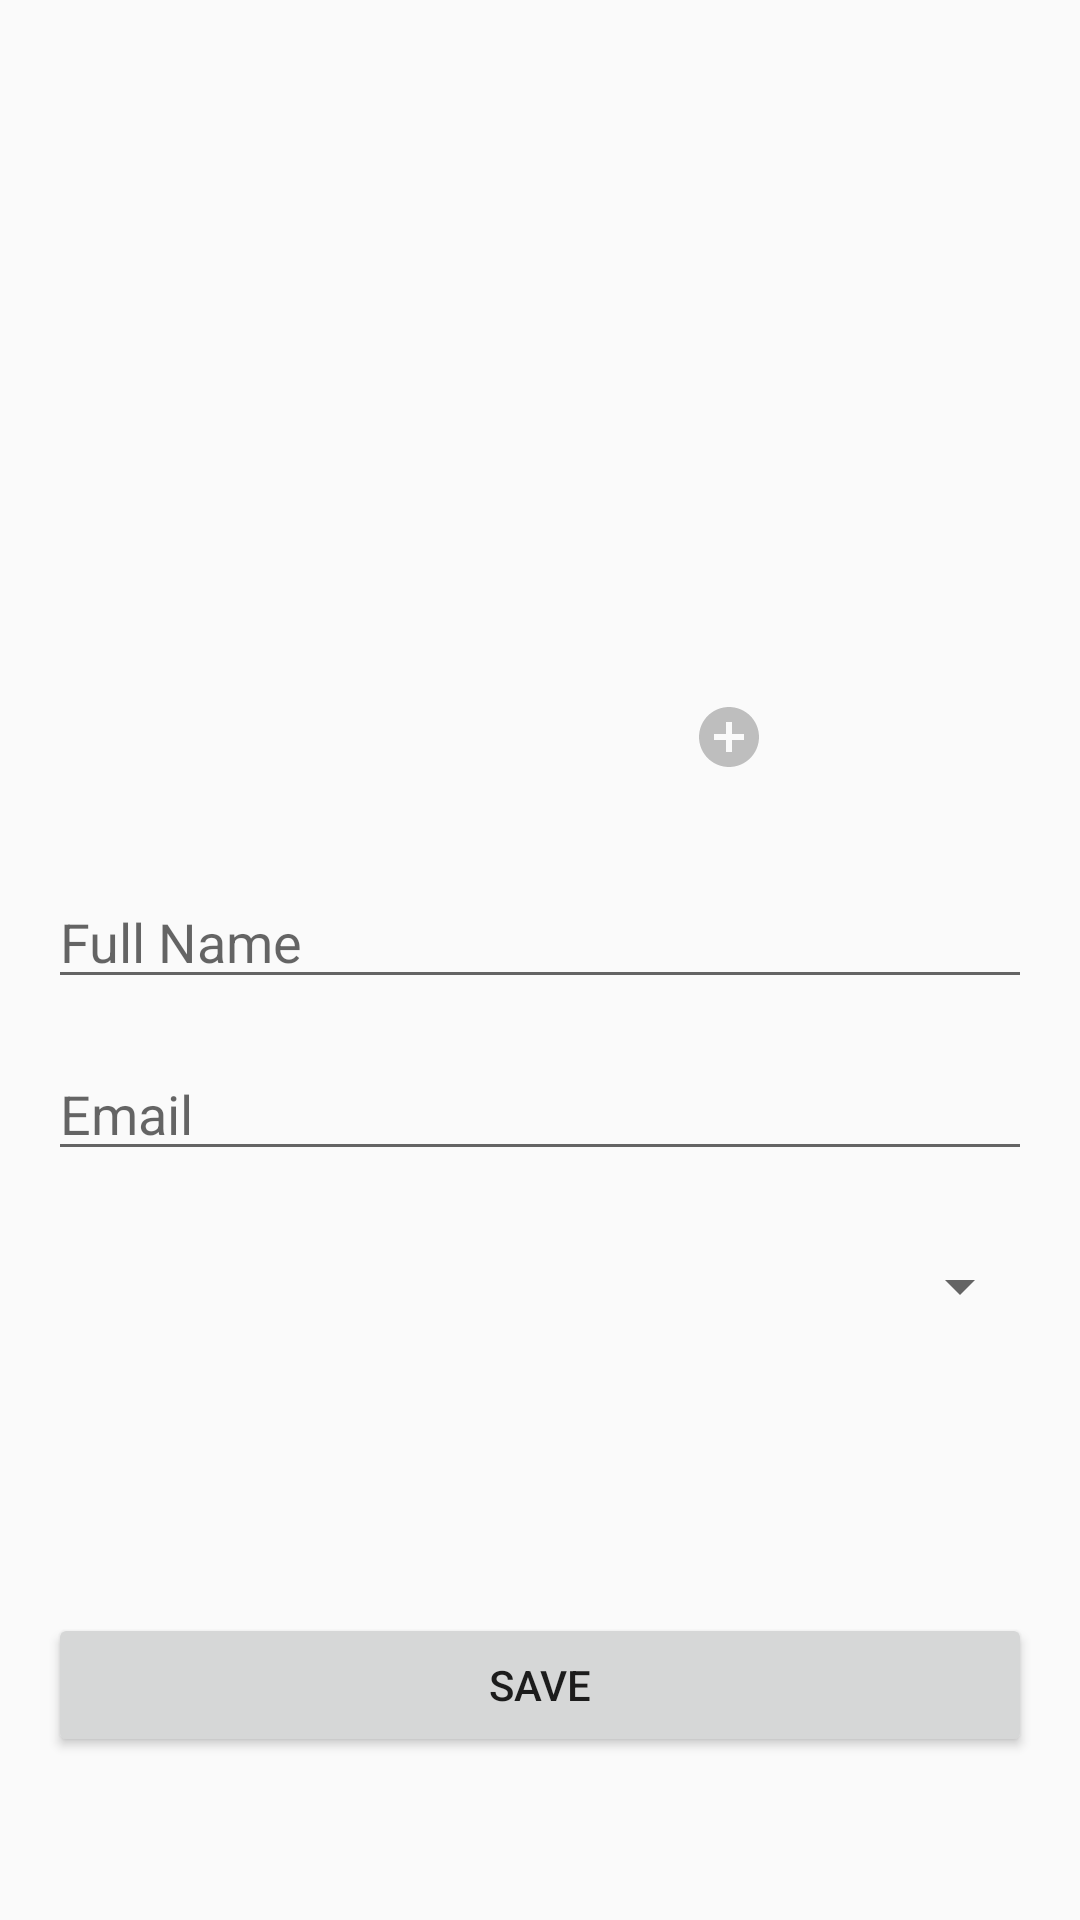

Screen size 1080w x 1920h. Icon name, then its center in pixels as [x,y]:
add circle: [729,737]
